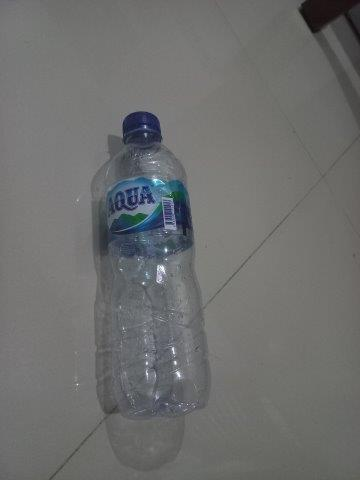botolplastik: (103, 111, 213, 415)
